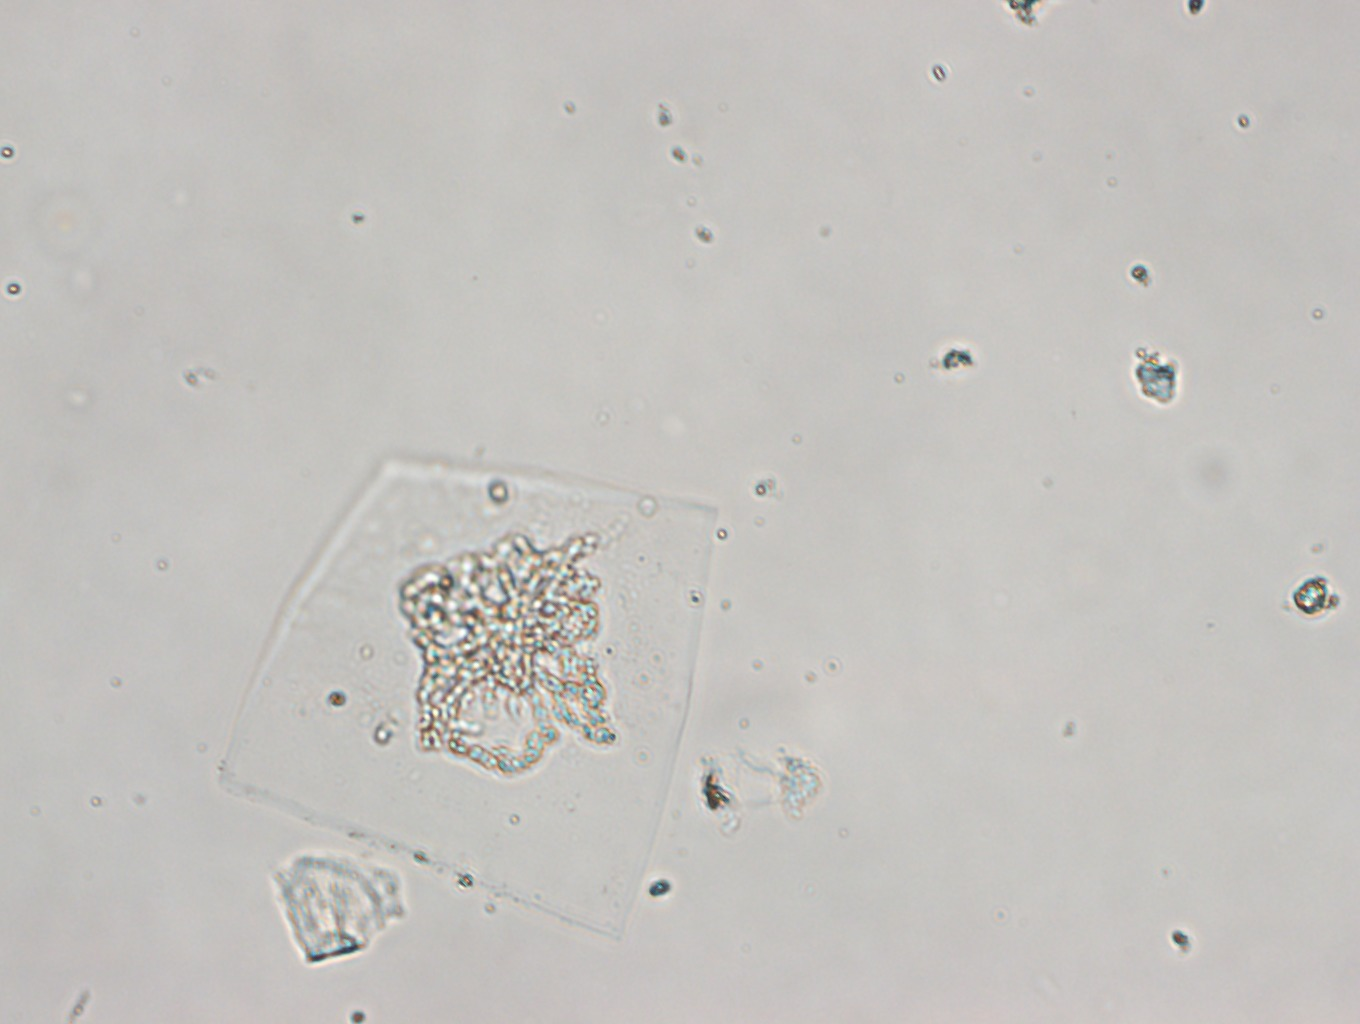helicotheca: (215, 449, 718, 939)
